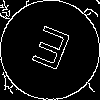E: (25, 25, 74, 80)
